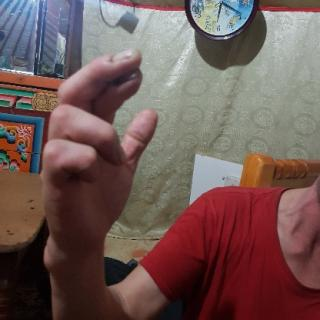DHELL: (32, 46, 160, 281)
